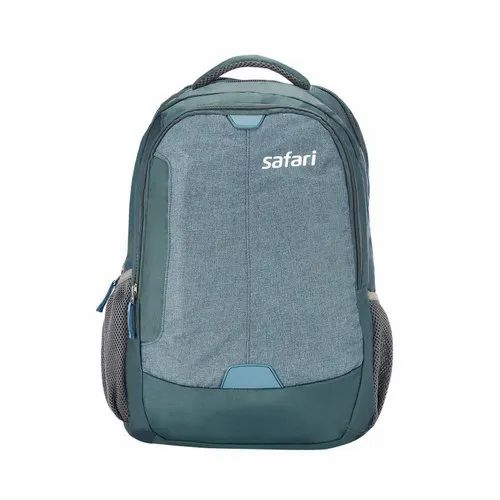backpack: (96, 53, 393, 450)
